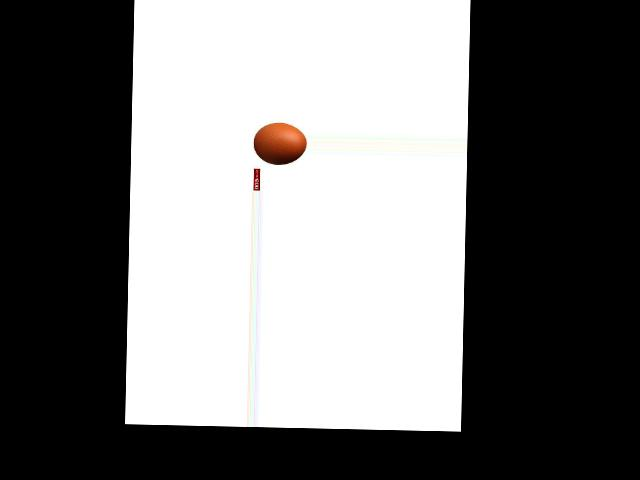egg: (253, 122, 306, 164)
